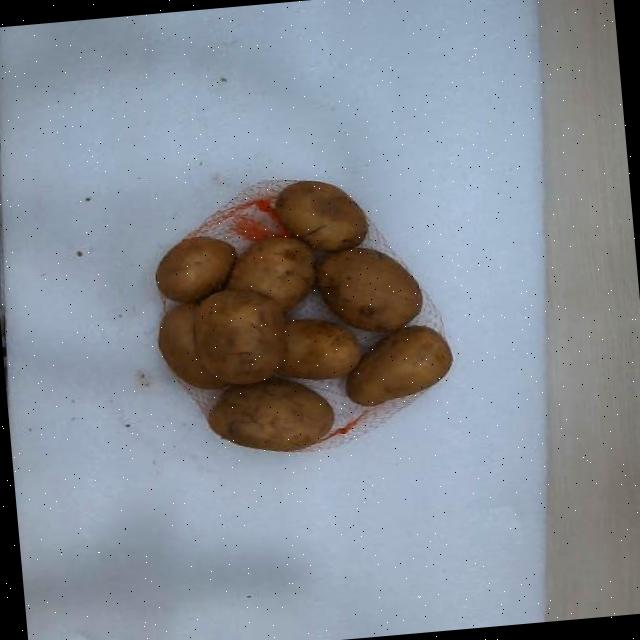potato: (208, 378, 332, 452), (316, 249, 422, 331), (192, 289, 283, 384), (348, 326, 451, 406), (226, 236, 314, 311), (275, 181, 367, 252), (157, 304, 225, 389), (155, 237, 234, 302), (280, 319, 360, 379)
